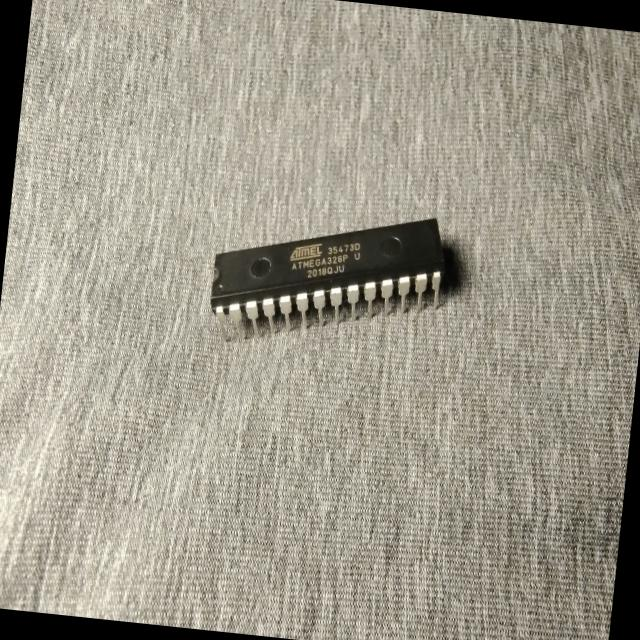atmega: (202, 192, 452, 366)
